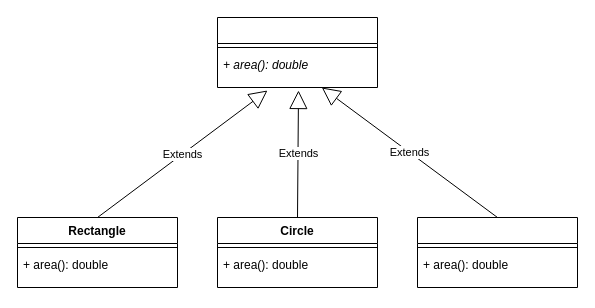
Image size: 595x308. Some labels were removed from this diagram. The shapes that lost their labels are listed below. From the top down, each one's box as (x1, y1, x2, y2) in pixels, then its label:
(216, 16, 378, 88): Shape
(416, 216, 578, 288): Triangle
